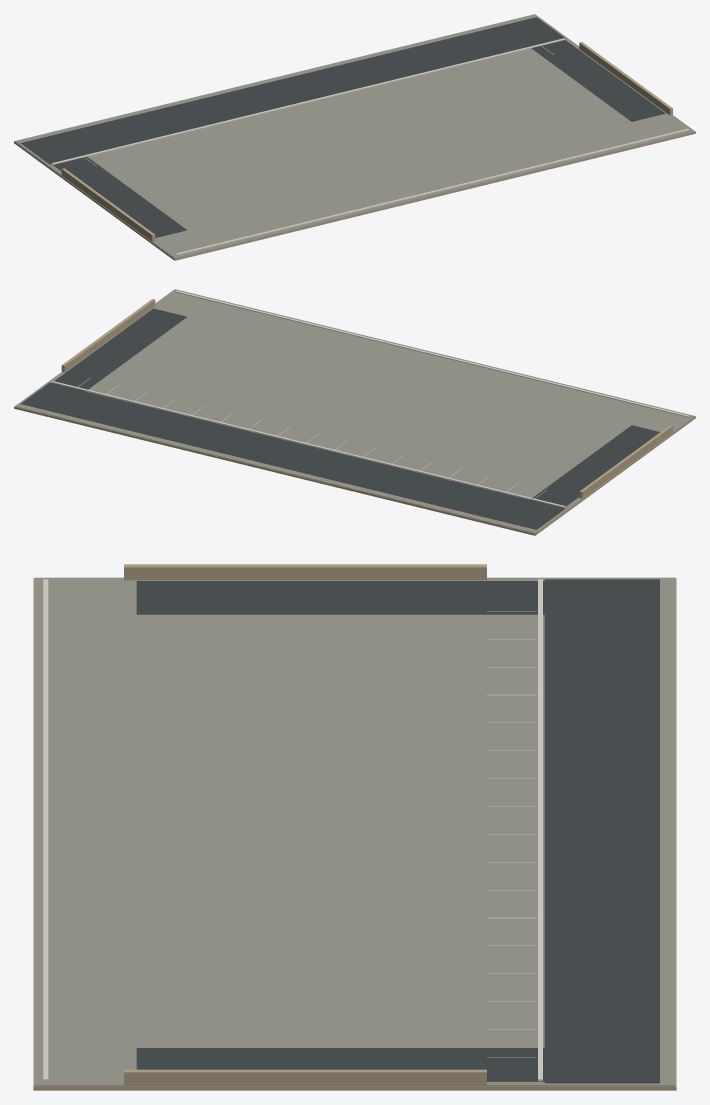
Rendered from KOL_T1_ATMOSPHERE__Foundation.fbx.
3 renders of one model, top to bottom at view 1: azimuth 30°, elevation 25°; view 2: azimuth 150°, elevation 25°; view 3: azimuth 270°, elevation 25°, orthographic. The views are drawn at different scales.
Parts seen in each view (by area): view 1: KOL_T1_ATMOSPHERE__Foundation__KOL_T1_Paving, KOL_T1_ATMOSPHERE__Foundation__KOL_T1_Asphalt, KOL_T1_ATMOSPHERE__Foundation__KOL_T1_Stone, KOL_T1_ATMOSPHERE__Foundation__KOL_T1_Pearl; view 2: KOL_T1_ATMOSPHERE__Foundation__KOL_T1_Paving, KOL_T1_ATMOSPHERE__Foundation__KOL_T1_Asphalt, KOL_T1_ATMOSPHERE__Foundation__KOL_T1_Stone, KOL_T1_ATMOSPHERE__Foundation__KOL_T1_Pearl; view 3: KOL_T1_ATMOSPHERE__Foundation__KOL_T1_Paving, KOL_T1_ATMOSPHERE__Foundation__KOL_T1_Asphalt, KOL_T1_ATMOSPHERE__Foundation__KOL_T1_Stone, KOL_T1_ATMOSPHERE__Foundation__KOL_T1_Pearl.
Boxes of the visible parts, x1,y1,x2,y2 form: KOL_T1_ATMOSPHERE__Foundation__KOL_T1_Paving: (15,14,694,258); KOL_T1_ATMOSPHERE__Foundation__KOL_T1_Asphalt: (21,17,665,237); KOL_T1_ATMOSPHERE__Foundation__KOL_T1_Stone: (14,42,695,260); KOL_T1_ATMOSPHERE__Foundation__KOL_T1_Pearl: (52,38,688,255); KOL_T1_ATMOSPHERE__Foundation__KOL_T1_Paving: (15,289,694,533); KOL_T1_ATMOSPHERE__Foundation__KOL_T1_Asphalt: (21,308,660,529); KOL_T1_ATMOSPHERE__Foundation__KOL_T1_Stone: (14,299,695,535); KOL_T1_ATMOSPHERE__Foundation__KOL_T1_Pearl: (52,290,688,507); KOL_T1_ATMOSPHERE__Foundation__KOL_T1_Paving: (34,577,675,1086); KOL_T1_ATMOSPHERE__Foundation__KOL_T1_Asphalt: (136,579,659,1083); KOL_T1_ATMOSPHERE__Foundation__KOL_T1_Stone: (33,564,676,1090); KOL_T1_ATMOSPHERE__Foundation__KOL_T1_Pearl: (43,579,542,1081).
Size of the model in its own units: 292 by 4.75 by 156.
